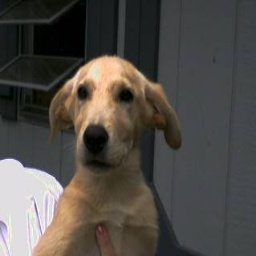dog: (30, 52, 181, 256)
